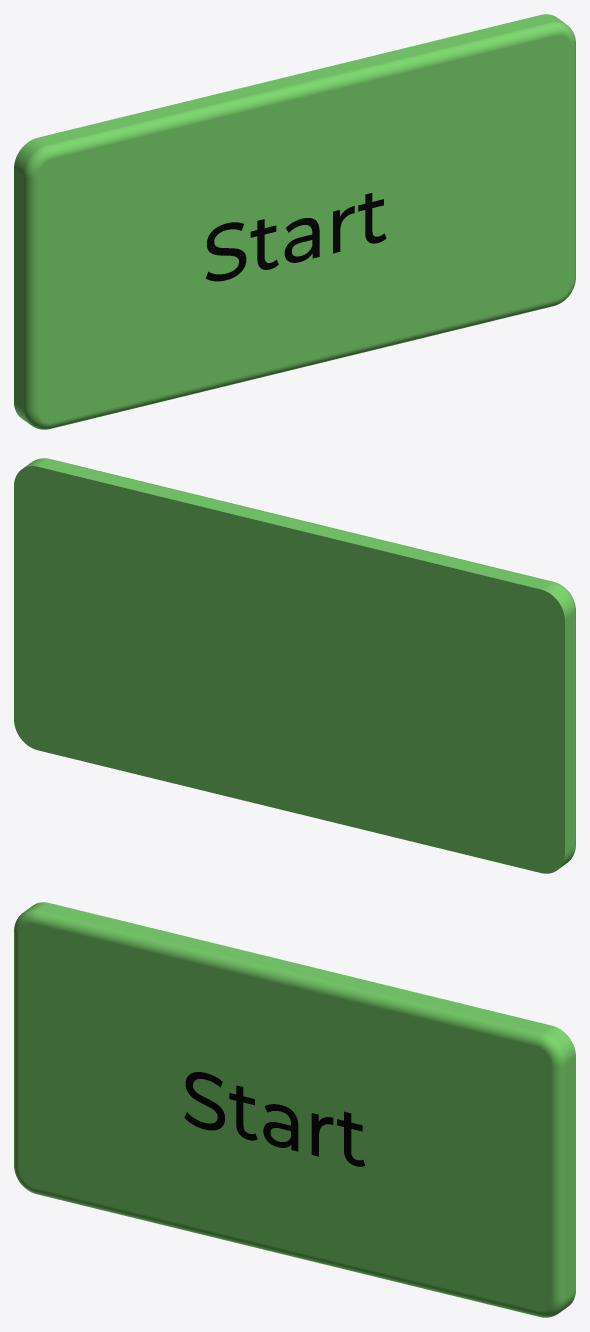
Rendered from BStart.glb.
3 views of the same model, one above another, from view 1: azimuth 30°, elevation 25°; view 2: azimuth 150°, elevation 25°; view 3: azimuth 330°, elevation 25° (orthographic).
Parts seen in each view (by area): view 1: ButtonNext.001; view 2: ButtonNext.001; view 3: ButtonNext.001.
Boxes of the visible parts, <box> form: ButtonNext.001: <box>14,14,575,429</box>; ButtonNext.001: <box>14,458,575,873</box>; ButtonNext.001: <box>14,902,575,1317</box>.
Size of the model in its own units: 0.5208 by 0.2562 by 0.0265.
2 materials, 1 textured.
